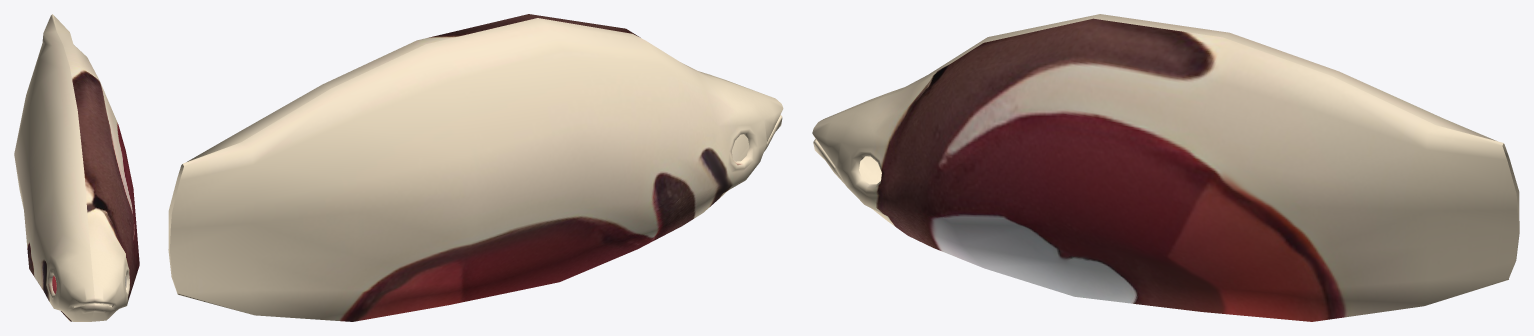
The model's file is body.obj.
3 renders of one model, left to right at view 1: azimuth 30°, elevation 25°; view 2: azimuth 150°, elevation 25°; view 3: azimuth 270°, elevation 25°, orthographic. The views are drawn at different scales.
Visible parts, largest first — view 1: Body_body_0; view 2: Body_body_0; view 3: Body_body_0.
Boxes of the visible parts, x1,y1,x2,y2 form: Body_body_0: (14,14,139,321); Body_body_0: (168,14,783,321); Body_body_0: (812,14,1519,321).
Size of the model in its own units: 0.3394 by 0.2894 by 0.6747.
